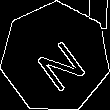N_NW: (25, 25, 86, 90)
